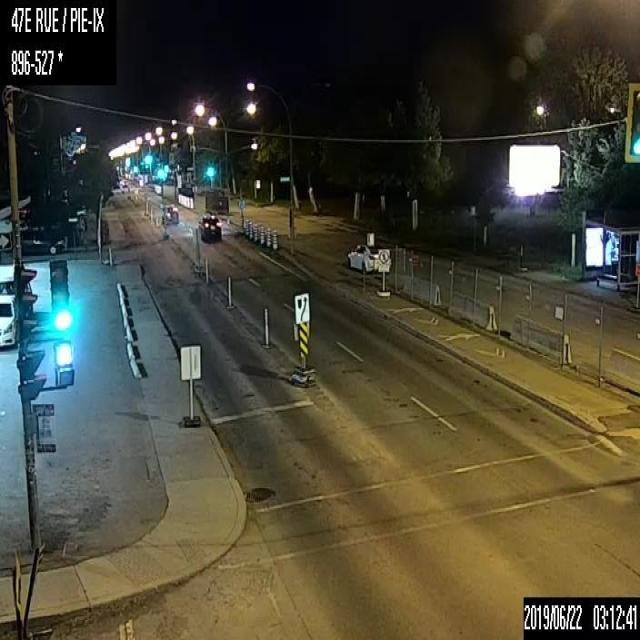construction: (263, 308, 268, 348), (227, 276, 231, 309), (244, 217, 250, 235), (205, 254, 208, 286), (272, 229, 277, 247), (266, 228, 271, 246), (253, 224, 258, 242), (248, 220, 252, 238), (260, 226, 264, 244)
vehicle: (344, 242, 391, 274), (0, 276, 32, 315), (0, 293, 20, 351), (20, 231, 64, 253), (198, 213, 223, 243), (160, 206, 179, 226)
